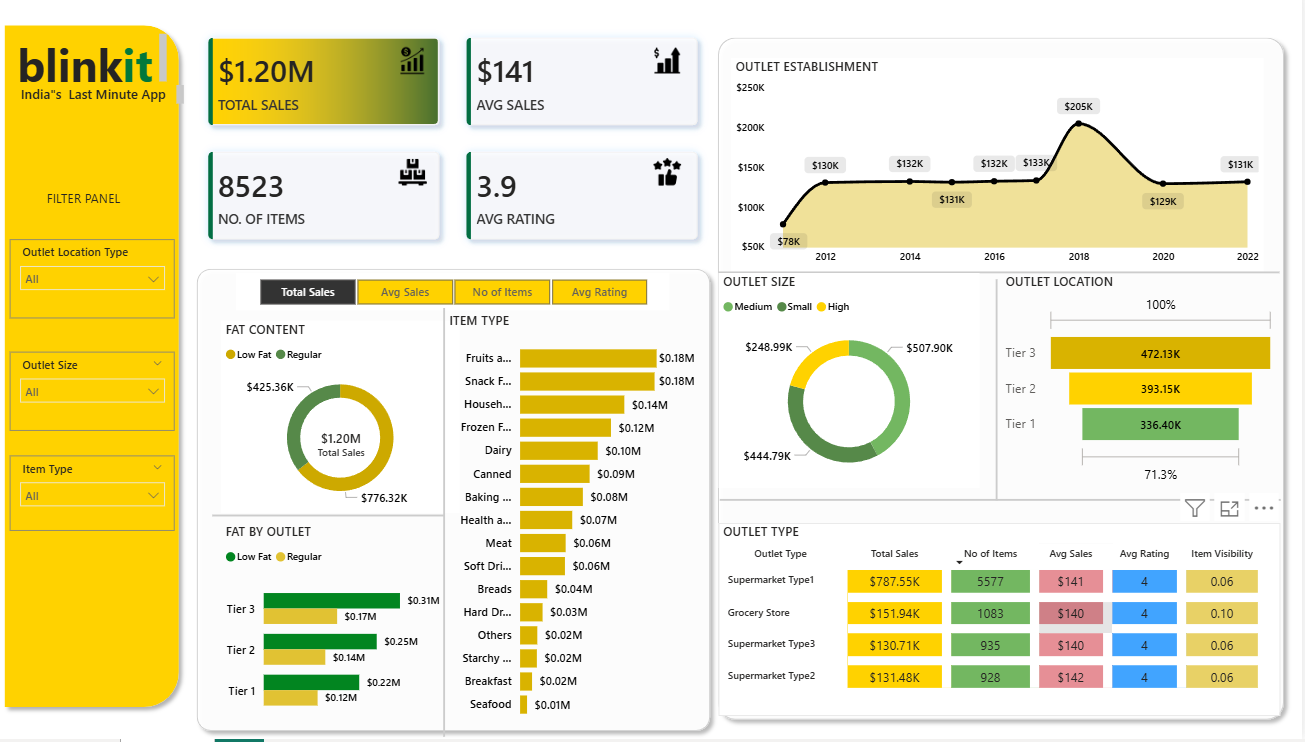

This screenshot's page, from the dashboard's own definition file:
{"tool":"powerbi","page":{"name":"Page 1","canvas":[1400,800],"ordinal":0},"visuals":[{"type":"shape","box":[0,25.5,205.1,749.3],"z":0},{"type":"textbox","box":[17.4,38.9,170.2,67],"z":1000},{"type":"textbox","box":[17.4,93.8,189,42.9],"z":2000},{"type":"cardVisual","fields":{"Data":["BlinkIT Grocery Data.Total Sales","BlinkIT Grocery Data.Avg Sales","BlinkIT Grocery Data.No of Items","BlinkIT Grocery Data.Avg Rating"]},"box":[205.1,25.5,569.7,261.4],"z":3000},{"type":"image","box":[705.1,176.9,29.5,29.5],"z":4000},{"type":"image","box":[431.6,176.9,30,30],"z":5000},{"type":"image","box":[705.1,57.6,29.5,29.5],"z":6000},{"type":"image","box":[431.6,57.6,29.5,29.5],"z":7000},{"type":"shape","box":[206.4,286.9,568.4,513.4],"z":8000},{"type":"donutChart","title":"FAT CONTENT","fields":{"Y":["BlinkIT Grocery Data.Total Sales"],"Category":["BlinkIT Grocery Data.Item Fat Content"]},"box":[241.3,351.2,256,206.4],"z":9000},{"type":"slicer","fields":{"Values":["metrics.metrics"]},"box":[257.4,300.3,465.1,40.2],"z":10000},{"type":"cardVisual","fields":{"Data":["BlinkIT Grocery Data.Total Sales"]},"box":[313.7,451.7,113.9,63],"z":11000},{"type":"clusteredBarChart","title":"FAT BY OUTLET","fields":{"Y":["BlinkIT Grocery Data.Total Sales"],"Category":["BlinkIT Grocery Data.Outlet Location Type"],"Series":["BlinkIT Grocery Data.Item Fat Content"]},"box":[241.3,568.4,239.9,219.8],"z":12000},{"type":"shape","box":[231.9,544.2,249.3,32.2],"z":13000},{"type":"shape","box":[451.7,337.8,57.6,459.8],"z":14000},{"type":"barChart","title":"ITEM TYPE","fields":{"Y":["BlinkIT Grocery Data.Total Sales"],"Category":["BlinkIT Grocery Data.Item Type"]},"box":[481.2,341.8,273.5,446.4],"z":15000},{"type":"shape","box":[765.4,38.9,624.7,749.3],"z":16000},{"type":"lineChart","title":"OUTLET ESTABLISHMENT","fields":{"Category":["BlinkIT Grocery Data.Outlet Establishment Year"],"Y":["BlinkIT Grocery Data.Total Sales"]},"box":[788.2,69.7,571,230.6],"z":17000},{"type":"shape","box":[774.8,281.5,601.9,36.2],"z":18000},{"type":"donutChart","title":"OUTLET SIZE","fields":{"Y":["BlinkIT Grocery Data.Total Sales"],"Category":["BlinkIT Grocery Data.Outlet Size"]},"box":[774.8,300.3,280.2,230.6],"z":19000},{"type":"shape","box":[1049.6,307,46.9,237.3],"z":20000},{"type":"funnel","title":"OUTLET LOCATION","fields":{"Category":["BlinkIT Grocery Data.Outlet Location Type"],"Y":["Sum(BlinkIT Grocery Data.Sales)"]},"box":[1077.8,300.3,298.9,230.6],"z":21000},{"type":"shape","box":[776.1,530.8,601.9,25.5],"z":22000},{"type":"pivotTable","title":"OUTLET TYPE","fields":{"Rows":["BlinkIT Grocery Data.Outlet Type"],"Values":["BlinkIT Grocery Data.Total Sales","BlinkIT Grocery Data.No of Items","BlinkIT Grocery Data.Avg Sales","BlinkIT Grocery Data.Avg Rating","Avg(BlinkIT Grocery Data.Item Visibility)"]},"box":[774.8,568.4,601.9,206.4],"z":23000},{"type":"slicer","fields":{"Values":["BlinkIT Grocery Data.Outlet Location Type"]},"box":[14.7,264.1,176.9,84.5],"z":24000},{"type":"slicer","fields":{"Values":["BlinkIT Grocery Data.Outlet Size"]},"box":[14.7,384.7,176.9,84.5],"z":25000},{"type":"slicer","fields":{"Values":["BlinkIT Grocery Data.Item Type"]},"box":[14.7,496,176.9,80.4],"z":26000},{"type":"textbox","box":[0,206.4,187.7,33.5],"z":27000}]}

Visuals, with their boxes in screenshot pixels (x1, y1, x2, y2), scaled from the page's 1400x800 canvas onto the 1305x742 screenshot:
shape: bbox=[0, 24, 191, 719]
textbox: bbox=[16, 36, 175, 98]
textbox: bbox=[16, 87, 192, 127]
cardVisual - BlinkIT Grocery Data.Total Sales x BlinkIT Grocery Data.Avg Sales: bbox=[191, 24, 722, 266]
image: bbox=[657, 164, 685, 191]
image: bbox=[402, 164, 430, 192]
image: bbox=[657, 53, 685, 81]
image: bbox=[402, 53, 430, 81]
shape: bbox=[192, 266, 722, 741]
"FAT CONTENT" donutChart: bbox=[225, 326, 464, 517]
slicer - metrics.metrics: bbox=[240, 279, 673, 316]
cardVisual - BlinkIT Grocery Data.Total Sales: bbox=[292, 419, 399, 477]
"FAT BY OUTLET" clusteredBarChart: bbox=[225, 527, 449, 731]
shape: bbox=[216, 505, 449, 535]
shape: bbox=[421, 313, 475, 740]
"ITEM TYPE" barChart: bbox=[449, 317, 703, 731]
shape: bbox=[713, 36, 1296, 731]
"OUTLET ESTABLISHMENT" lineChart: bbox=[735, 65, 1267, 279]
shape: bbox=[722, 261, 1283, 295]
"OUTLET SIZE" donutChart: bbox=[722, 279, 983, 492]
shape: bbox=[978, 285, 1022, 505]
"OUTLET LOCATION" funnel: bbox=[1005, 279, 1283, 492]
shape: bbox=[723, 492, 1284, 516]
"OUTLET TYPE" pivotTable: bbox=[722, 527, 1283, 719]
slicer - BlinkIT Grocery Data.Outlet Location Type: bbox=[14, 245, 179, 323]
slicer - BlinkIT Grocery Data.Outlet Size: bbox=[14, 357, 179, 435]
slicer - BlinkIT Grocery Data.Item Type: bbox=[14, 460, 179, 535]
textbox: bbox=[0, 191, 175, 223]
